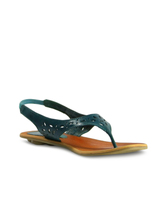shoes: (18, 94, 147, 163)
